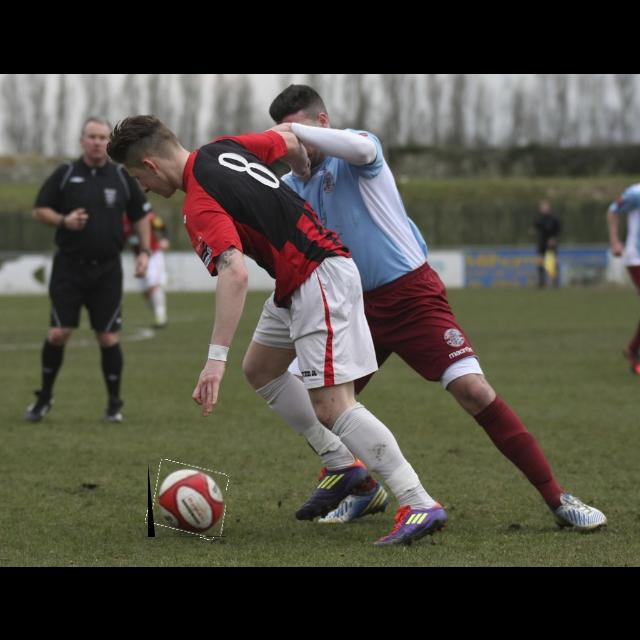Football: (148, 463, 226, 537)
